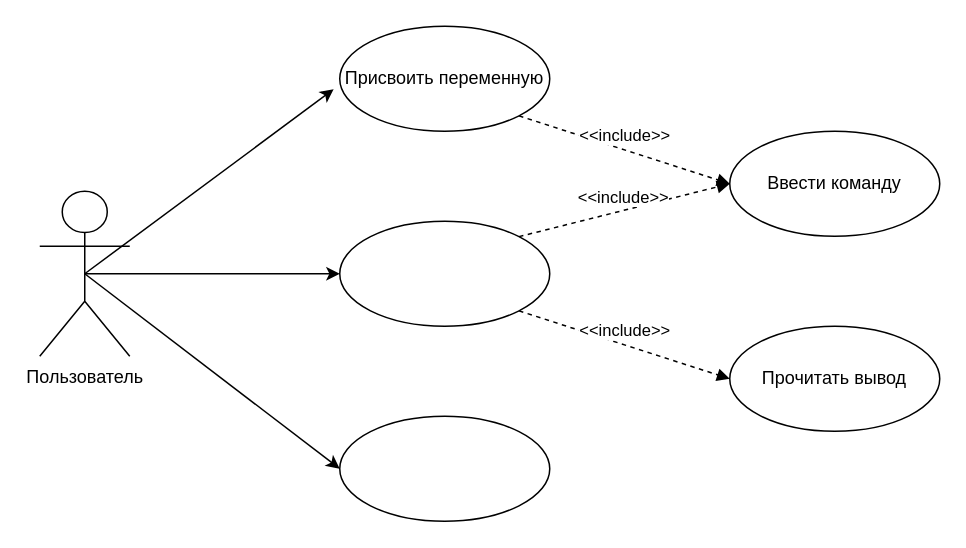
Some shapes in this 966 by 548 pixel diagram are drawn without their labels. Here are the shapes that lost their labels. From the top down, the centre of each, then its label:
the point at 444,273: Запустить команду
the point at 444,468: Завершить ввод
